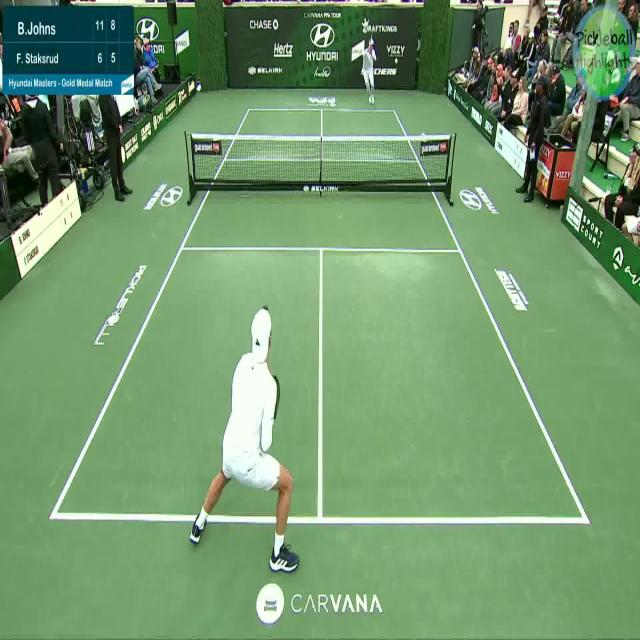Court: (52, 107, 590, 524)
